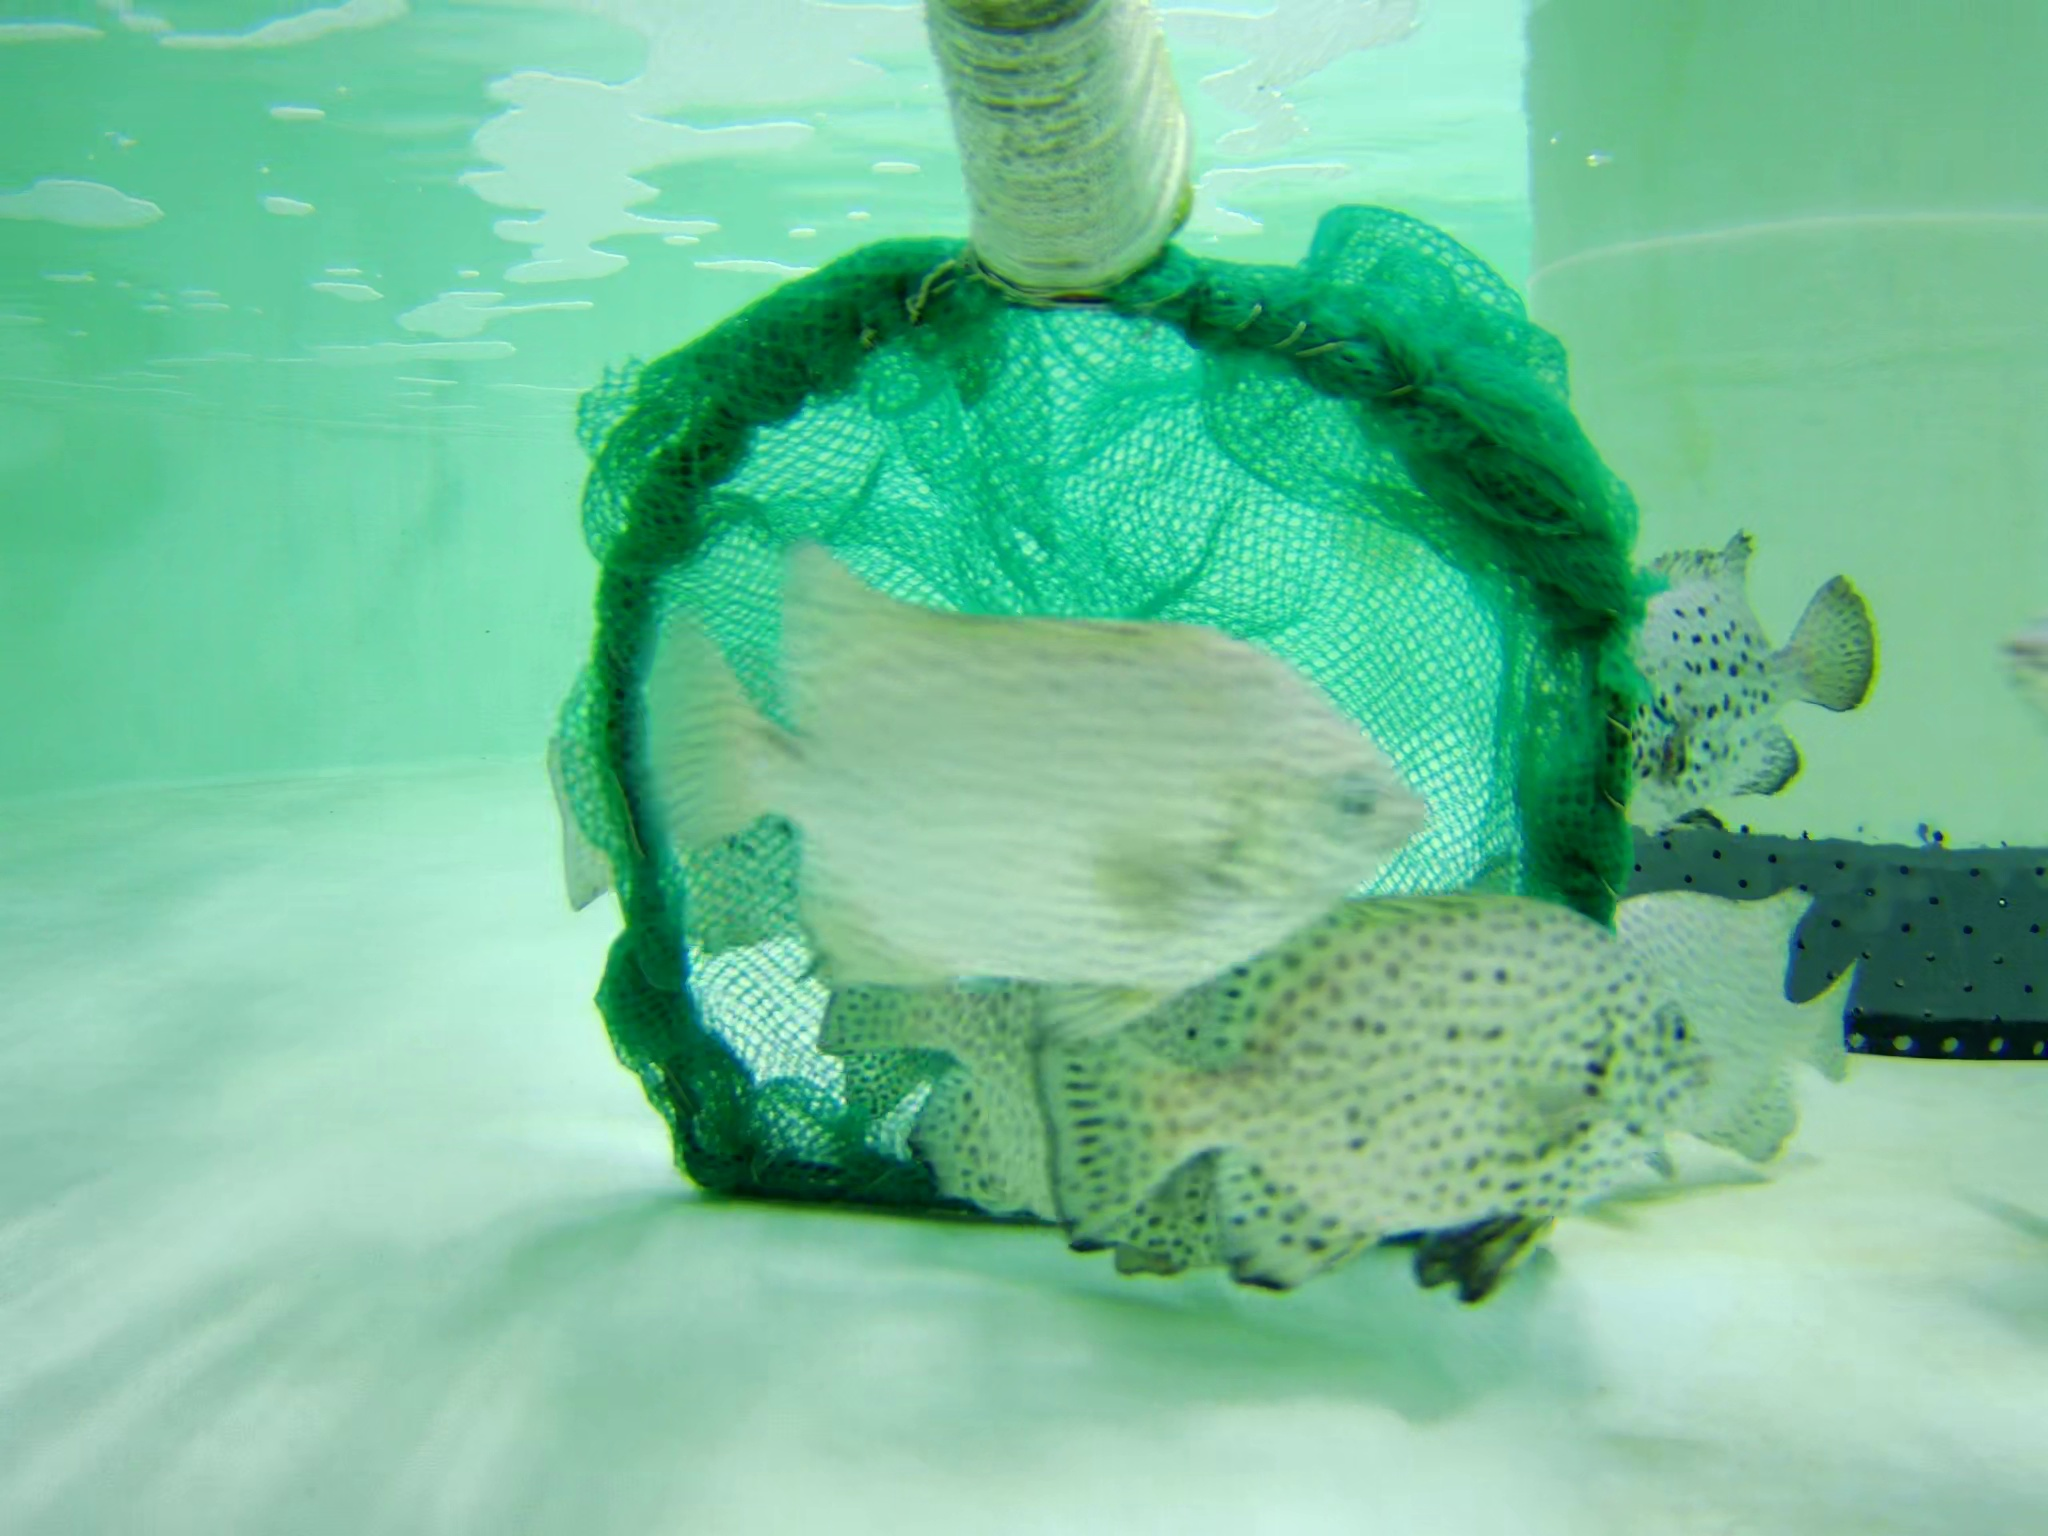fish: (642, 574, 1430, 983), (1051, 892, 1700, 1300), (1576, 542, 1892, 834), (1564, 860, 1861, 1168), (826, 954, 1095, 1252), (647, 816, 811, 952), (1996, 618, 2048, 721)
